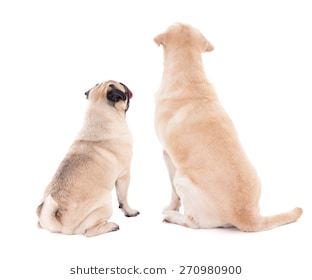dog: (151, 22, 303, 232), (34, 79, 139, 237)
